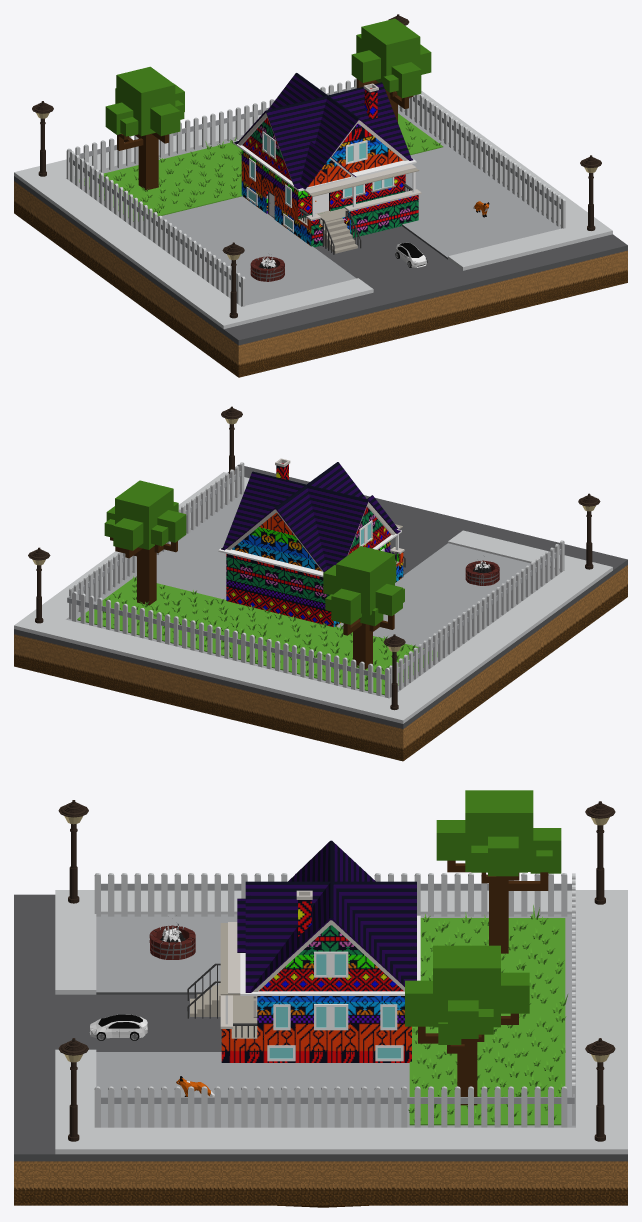
3 views of the same model, one above another, from view 1: azimuth 30°, elevation 25°; view 2: azimuth 150°, elevation 25°; view 3: azimuth 270°, elevation 25° (orthographic). The views are drawn at different scales.
Parts seen in each view (by area): view 1: Cube.004, Cube.966, OBJRANDOM_CAMPFIRE, VEHICLES_TESLA; view 2: Cube.004, Cube.966, OBJRANDOM_CAMPFIRE; view 3: Cube.004, Cube.966, OBJRANDOM_CAMPFIRE, VEHICLES_TESLA.
Part boxes in pixels (x1=…): Cube.004: x1=14, y1=14, x2=627, y2=377; Cube.966: x1=233, y1=73, x2=421, y2=254; OBJRANDOM_CAMPFIRE: x1=250, y1=255, x2=284, y2=281; VEHICLES_TESLA: x1=395, y1=242, x2=427, y2=267; Cube.004: x1=14, y1=406, x2=627, y2=761; Cube.966: x1=218, y1=458, x2=405, y2=626; OBJRANDOM_CAMPFIRE: x1=465, y1=556, x2=499, y2=585; Cube.004: x1=14, y1=790, x2=627, y2=1205; Cube.966: x1=187, y1=840, x2=420, y2=1062; OBJRANDOM_CAMPFIRE: x1=149, y1=923, x2=195, y2=959; VEHICLES_TESLA: x1=89, y1=1014, x2=147, y2=1040.
Size of the model in its own units: 4000 by 1667 by 4000.
39 materials, 7 textured.
